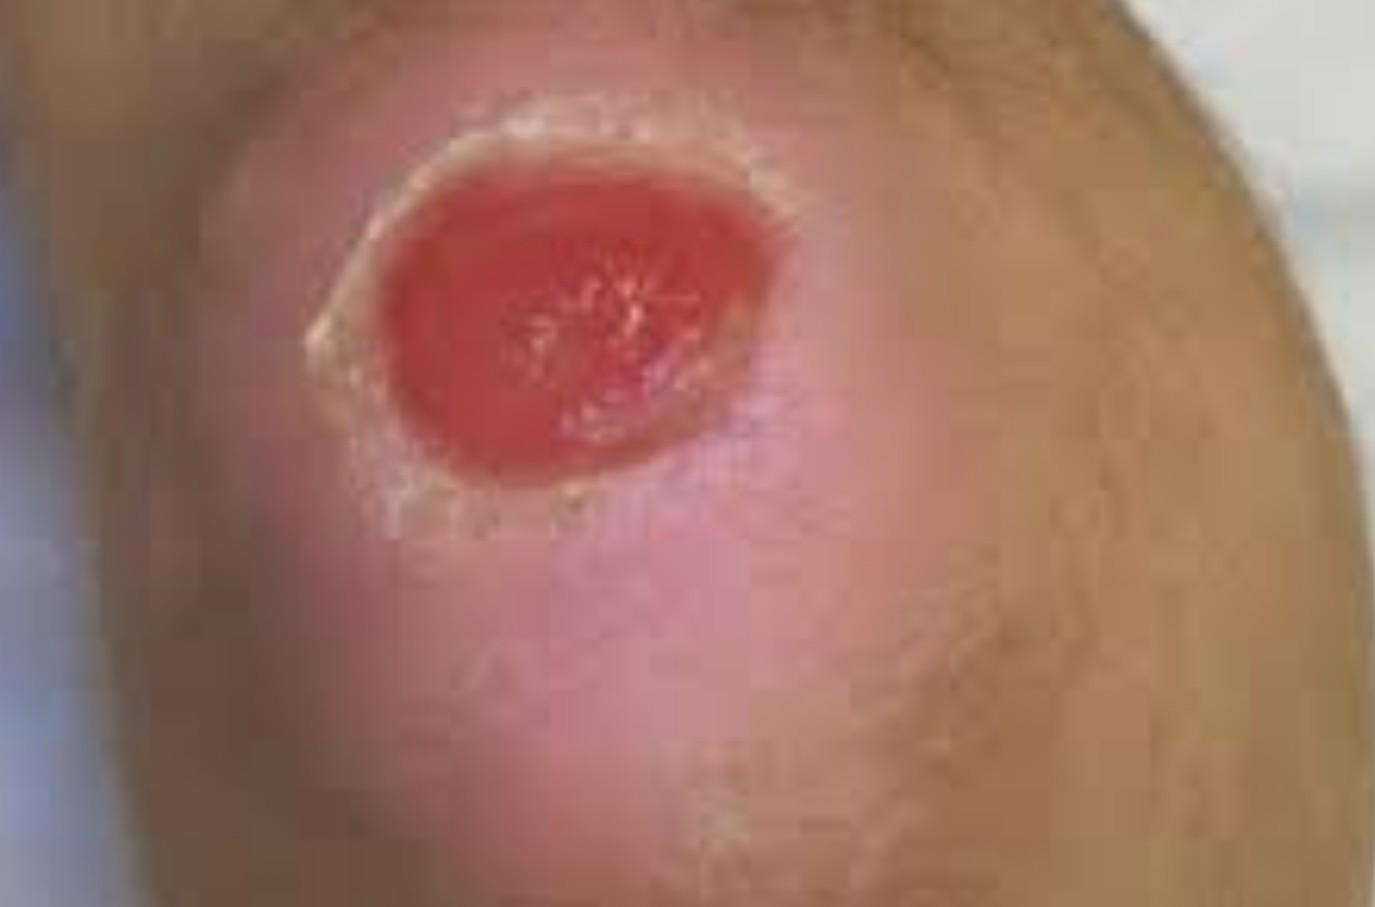Stage2: (276, 80, 809, 603)
